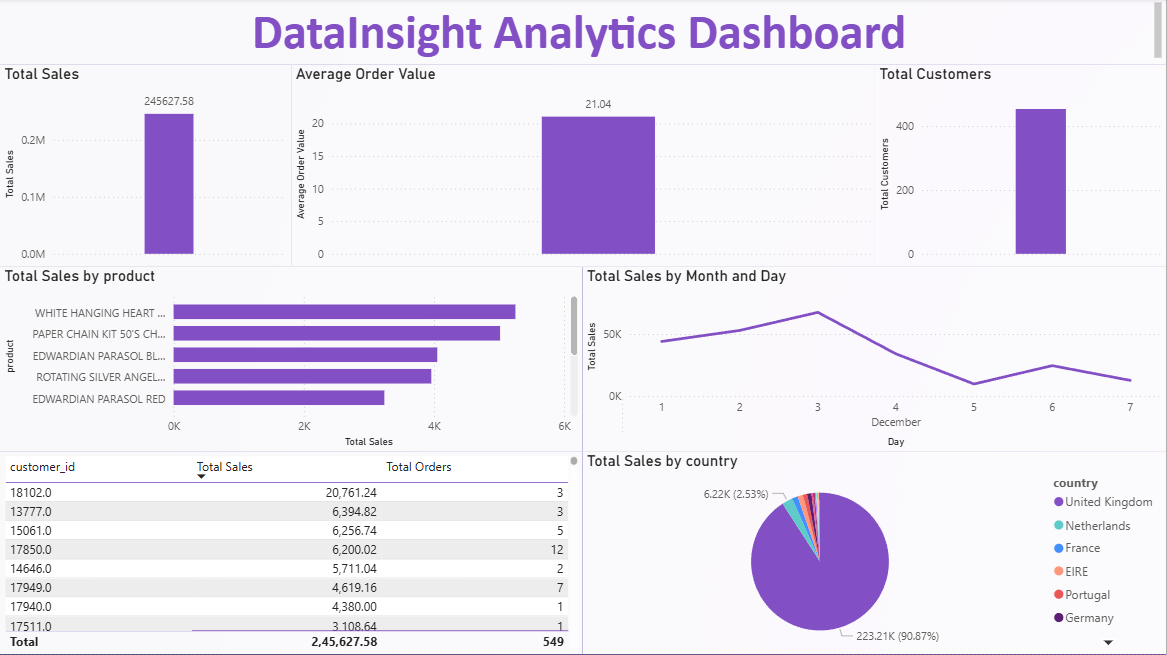

What the dashboard file says about the page in this screenshot:
{"tool":"powerbi","page":{"name":"Page 1","canvas":[1280,720],"ordinal":0},"visuals":[{"type":"columnChart","fields":{"Y":["public sales_data.Total Sales"]},"box":[0,72.7,319.7,222.3],"z":0},{"type":"columnChart","fields":{"Y":["public sales_data.Total Customers"]},"box":[960.6,72.7,319.7,222.3],"z":1000},{"type":"columnChart","fields":{"Y":["public sales_data.Average Order Value"]},"box":[319.7,72.7,640.8,222.3],"z":2000},{"type":"barChart","fields":{"Category":["public sales_data.product"],"Y":["public sales_data.Total Sales"]},"box":[0,295,639.5,203.1],"z":3000},{"type":"lineChart","fields":{"Y":["public sales_data.Total Sales"],"Category":["public sales_data.date.Variation.Date Hierarchy.Month","public sales_data.date.Variation.Date Hierarchy.Day"]},"box":[639.5,295,640.8,203.1],"z":4000},{"type":"tableEx","fields":{"Values":["public sales_data.customer_id","public sales_data.Total Sales","public sales_data.Total Orders"]},"box":[0,498.1,639.5,222.3],"z":5000},{"type":"pieChart","fields":{"Category":["public sales_data.country"],"Y":["public sales_data.Total Sales"]},"box":[639.5,498.1,640.8,222.3],"z":6000},{"type":"textbox","box":[0,0,1280.3,72.7],"z":6001}]}

Visuals, with their boxes in screenshot pixels (x1, y1, x2, y2), scaled from the page's 1280x720 canvas onto the 1167x655 screenshot:
columnChart - public sales_data.Total Sales: region(0, 66, 291, 268)
columnChart - public sales_data.Total Customers: region(876, 66, 1166, 268)
columnChart - public sales_data.Average Order Value: region(291, 66, 876, 268)
barChart - public sales_data.product x public sales_data.Total Sales: region(0, 268, 583, 453)
lineChart - public sales_data.Total Sales x public sales_data.date.Variation.Date Hierarchy.Month: region(583, 268, 1166, 453)
tableEx - public sales_data.customer_id x public sales_data.Total Sales: region(0, 453, 583, 654)
pieChart - public sales_data.country x public sales_data.Total Sales: region(583, 453, 1166, 654)
textbox: region(0, 0, 1166, 66)
